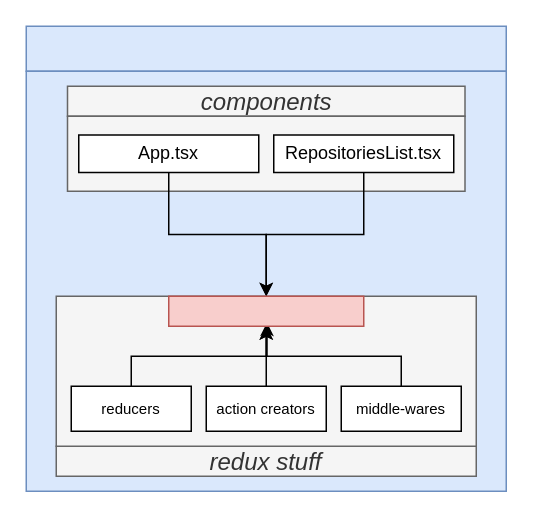
Some shapes in this 533 by 518 pixel diagram are drawn without their labels. The centre of each missing label's shape, as x and y in pixels:
"'src' Folder" belongs at (265,48).
"index.ts" belongs at (265,310).
